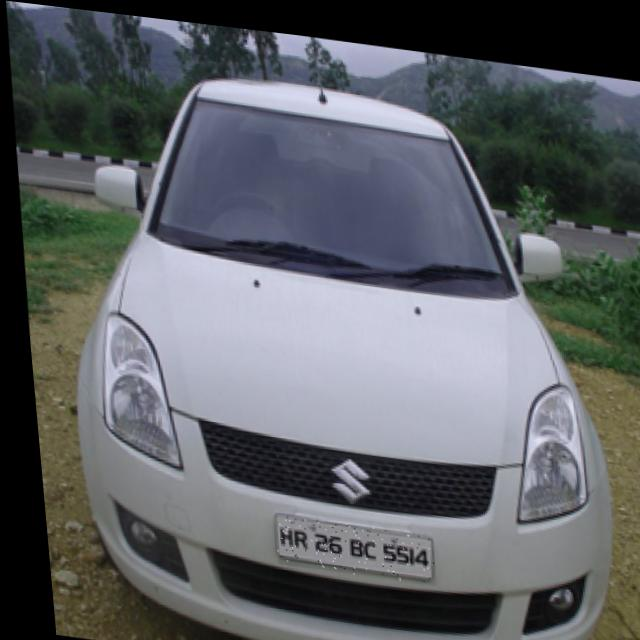license_plate: (264, 508, 427, 576)
